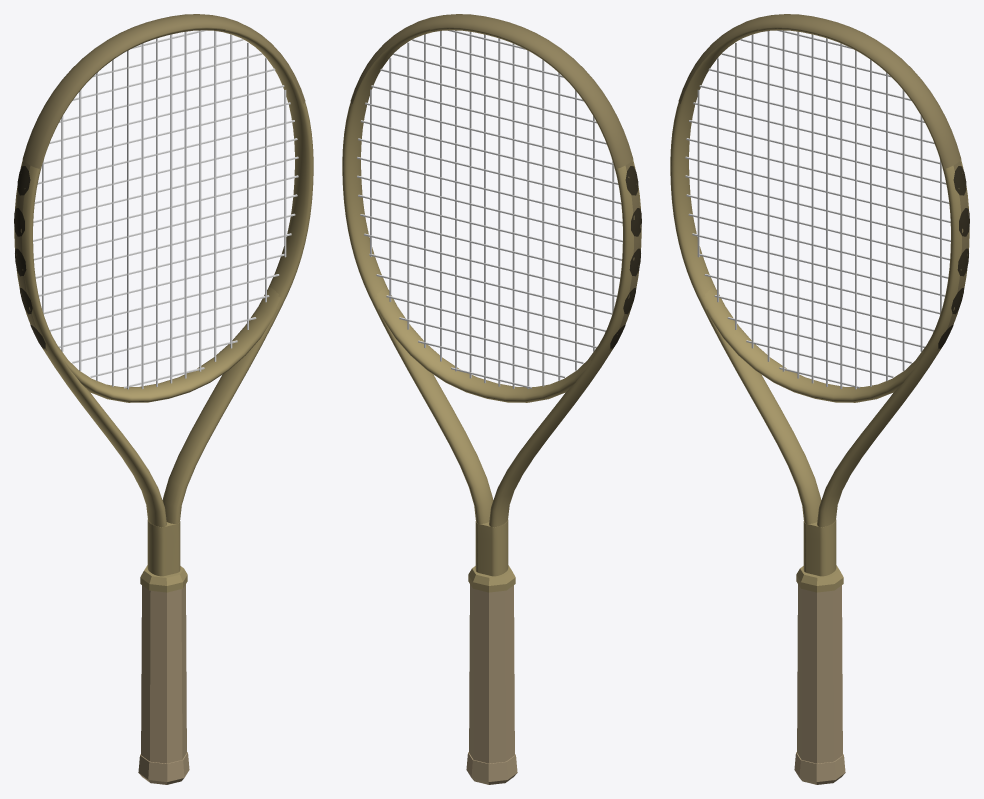
File: prince-o3-legacy-105.glb
3 renders of one model, left to right at view 1: azimuth 30°, elevation 25°; view 2: azimuth 150°, elevation 25°; view 3: azimuth 330°, elevation 25°, orthographic.
Visible parts, largest first — view 1: frame, strings_mains, strings_crosses, grip, bumper, grommets, butt_cap, collar; view 2: frame, strings_mains, strings_crosses, grip, bumper, grommets, butt_cap, collar; view 3: frame, strings_mains, strings_crosses, grip, bumper, grommets, butt_cap, collar.
Boxes of the visible parts, x1=… form: frame: x1=14, y1=27, x2=313, y2=576; strings_mains: x1=42, y1=30, x2=286, y2=389; strings_crosses: x1=33, y1=30, x2=298, y2=388; grip: x1=141, y1=584, x2=186, y2=763; bumper: x1=22, y1=14, x2=305, y2=168; grommets: x1=14, y1=161, x2=47, y2=350; butt_cap: x1=138, y1=752, x2=189, y2=784; collar: x1=140, y1=565, x2=187, y2=592; frame: x1=342, y1=27, x2=641, y2=576; strings_mains: x1=370, y1=30, x2=614, y2=388; strings_crosses: x1=357, y1=30, x2=622, y2=388; grip: x1=469, y1=584, x2=514, y2=763; bumper: x1=350, y1=14, x2=633, y2=168; grommets: x1=608, y1=161, x2=641, y2=350; butt_cap: x1=466, y1=752, x2=517, y2=784; collar: x1=468, y1=565, x2=515, y2=592; frame: x1=670, y1=27, x2=969, y2=576; strings_mains: x1=697, y1=30, x2=941, y2=389; strings_crosses: x1=685, y1=30, x2=950, y2=388; grip: x1=797, y1=584, x2=842, y2=763; bumper: x1=678, y1=14, x2=961, y2=168; grommets: x1=936, y1=161, x2=969, y2=350; butt_cap: x1=794, y1=752, x2=845, y2=784; collar: x1=796, y1=565, x2=843, y2=592.
Size of the model in its own units: 0.281 by 0.6924 by 0.0396.
